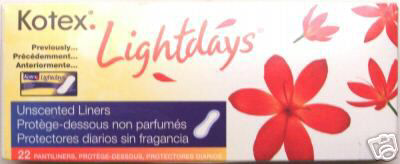grozi_81: (0, 0, 400, 163)
